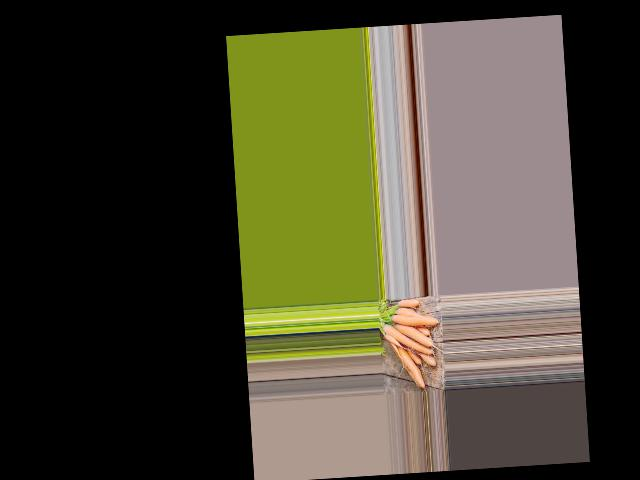carrot: (397, 345, 427, 387)
